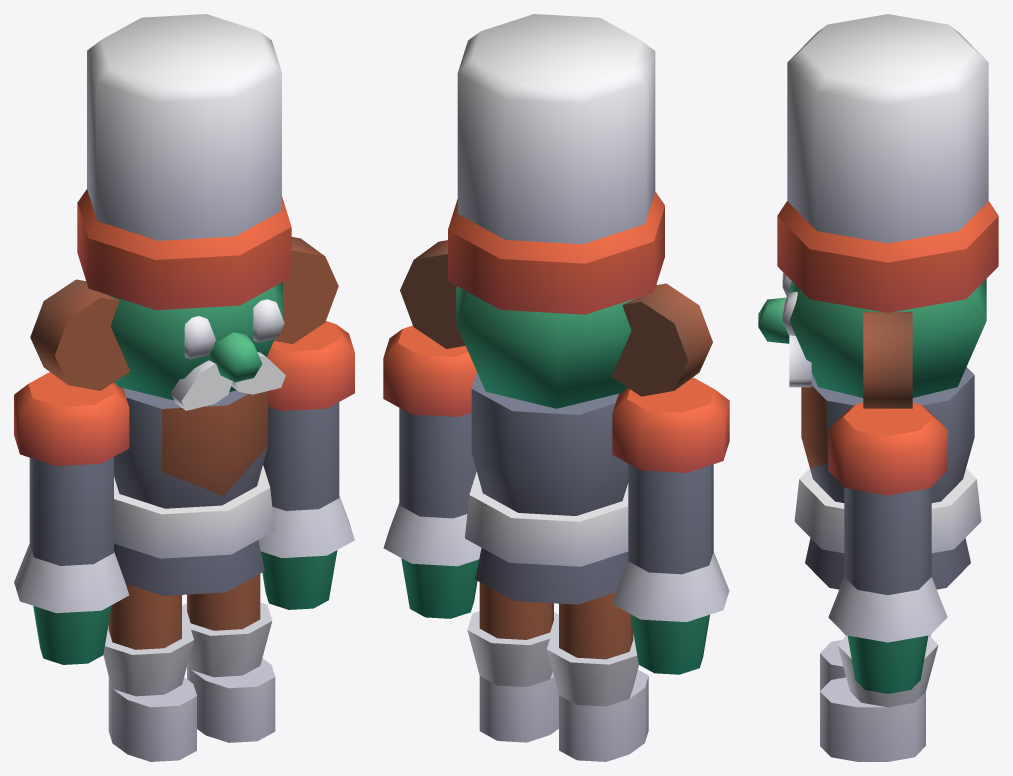
Rendered from nutcracker.glb.
3 renders of one model, left to right at view 1: azimuth 30°, elevation 25°; view 2: azimuth 150°, elevation 25°; view 3: azimuth 270°, elevation 25°, orthographic.
Parts seen in each view (by area): view 1: nutcracker; view 2: nutcracker; view 3: nutcracker.
Part boxes in pixels (x1,y1,x2,y2): nutcracker: (14,14,354,761); nutcracker: (383,14,729,761); nutcracker: (758,14,998,761).
Bounding box in the file's own units: 0.5484 × 1.08 × 0.3475.
1 material, 1 textured.
